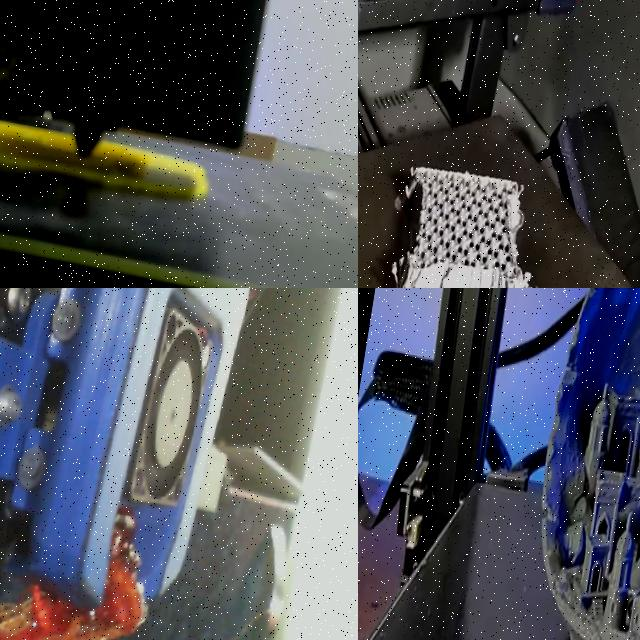spaghetti: (0, 507, 147, 640), (0, 511, 146, 640)
